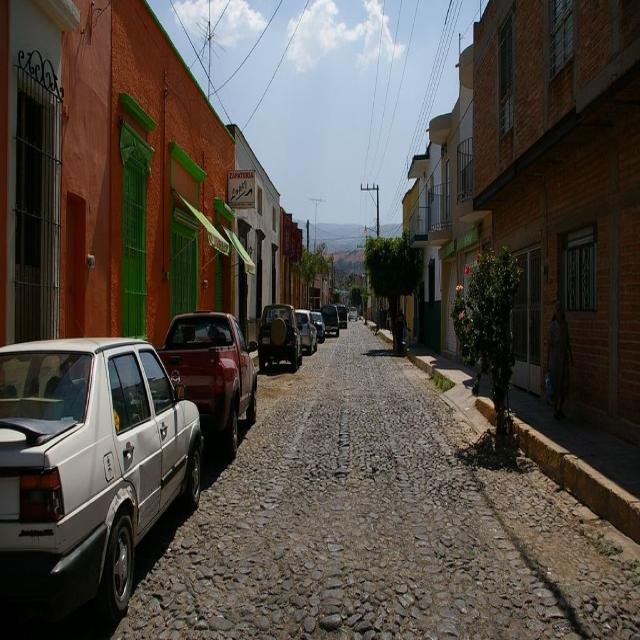car: (256, 300, 303, 373)
